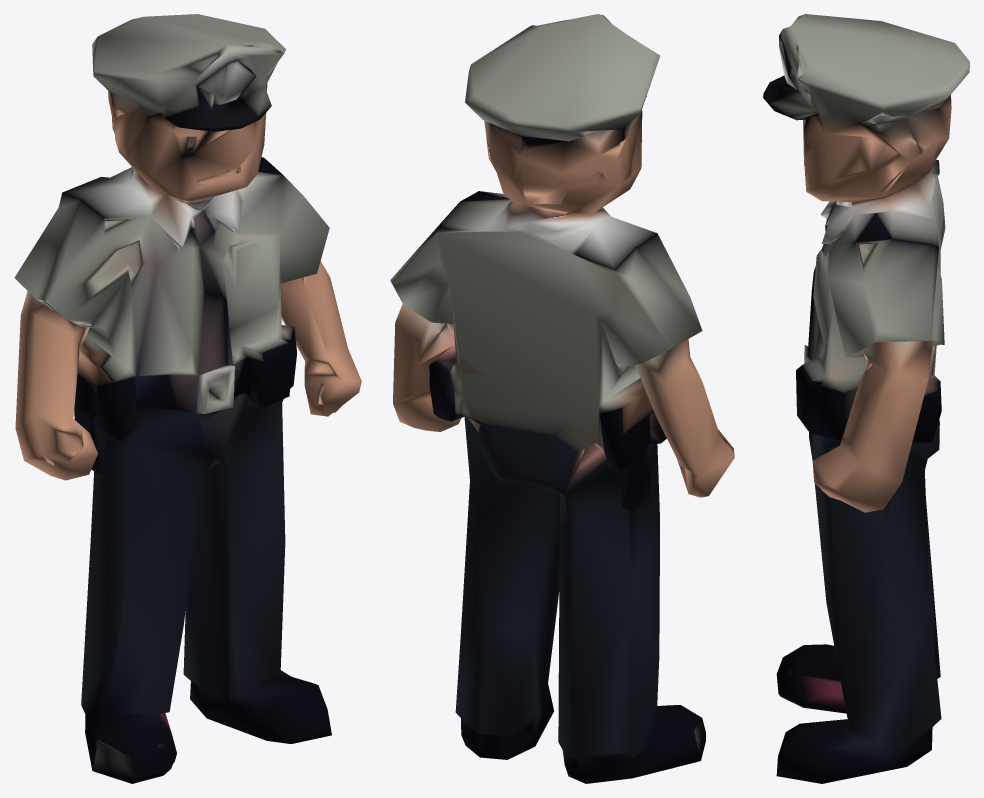
The model's file is gen3d-cop-lod1.glb.
The picture shows the model from 3 angles, left to right: view 1: azimuth 30°, elevation 25°; view 2: azimuth 150°, elevation 25°; view 3: azimuth 270°, elevation 25°; orthographic projection.
Parts seen in each view (by area): view 1: part_0; view 2: part_0; view 3: part_0.
Part boxes in pixels (x1,y1,x2,y2): part_0: (14, 14, 361, 783); part_0: (390, 14, 734, 783); part_0: (763, 14, 969, 783).
Size of the model in its own units: 0.4702 by 1 by 0.2659.
